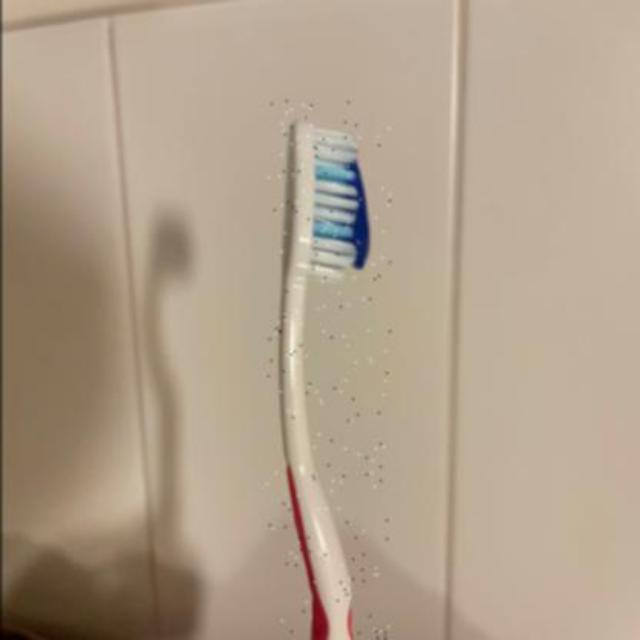toothbrush: (265, 100, 389, 640)
